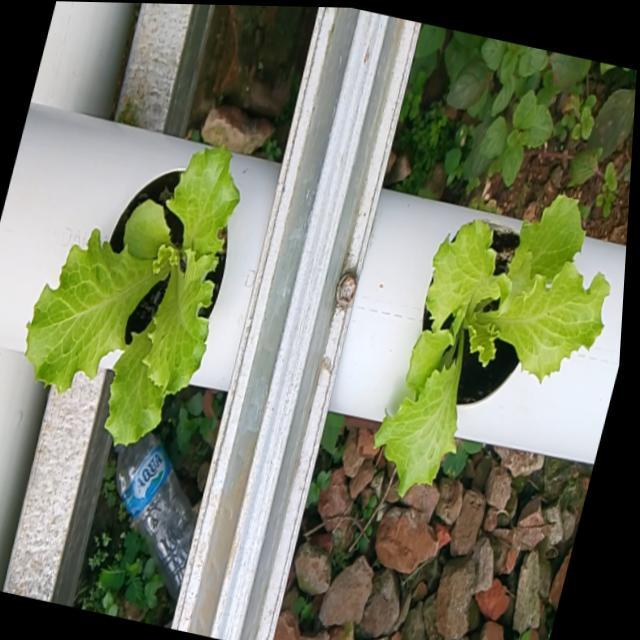Baby: (379, 191, 617, 493), (30, 142, 244, 444)
